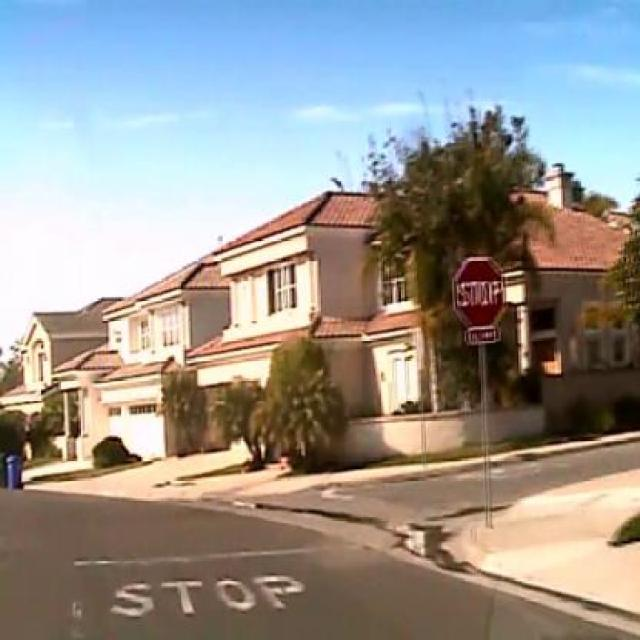stop: (452, 256, 504, 328)
